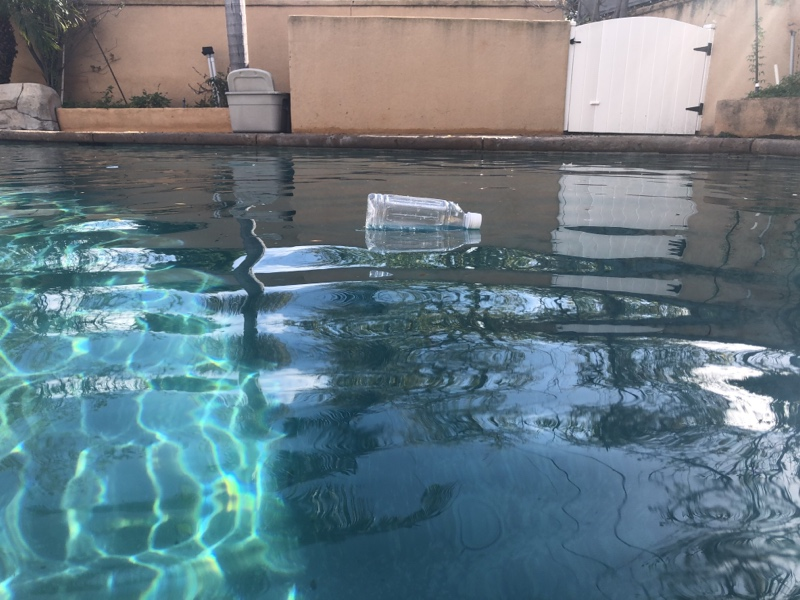Plastic Bottle: (361, 188, 486, 235)
